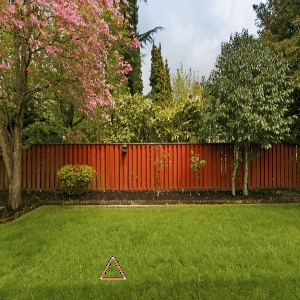triangle: (98, 256, 127, 280)
